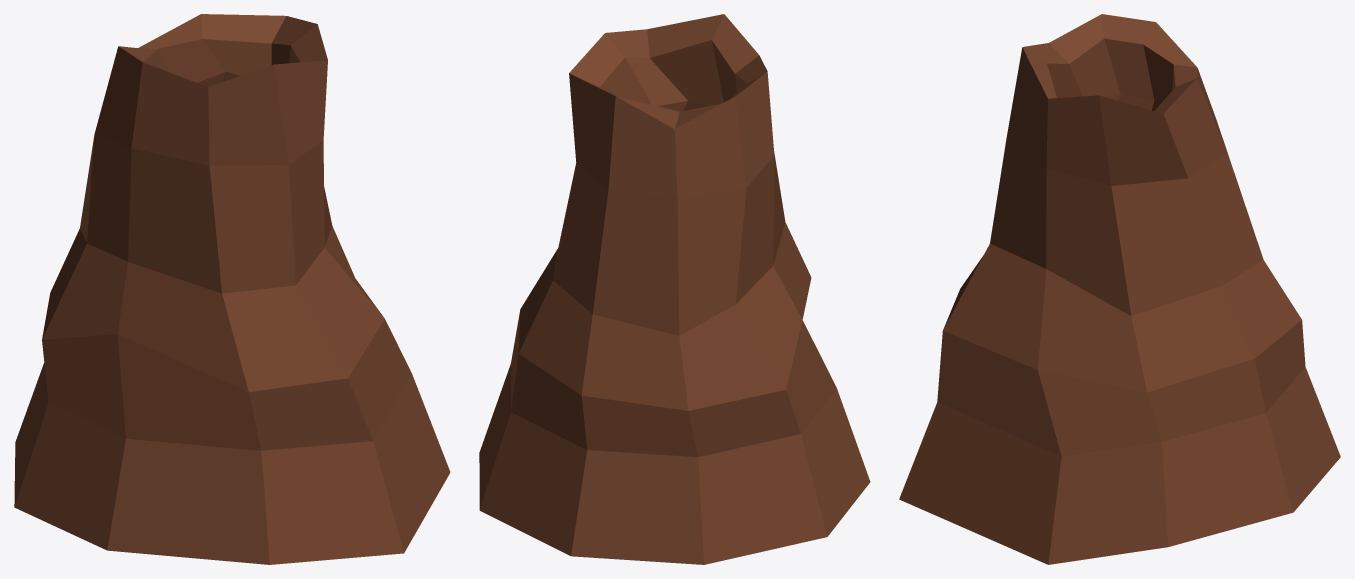
File: Stump.fbx
3 renders of one model, left to right at view 1: azimuth 30°, elevation 25°; view 2: azimuth 150°, elevation 25°; view 3: azimuth 270°, elevation 25°, orthographic. The views are drawn at different scales.
Visible parts, largest first — view 1: Stump; view 2: Stump; view 3: Stump.
Part boxes in pixels (box(x1,y1,x2,y2)): Stump: box(14, 14, 450, 564); Stump: box(479, 14, 870, 564); Stump: box(899, 14, 1340, 564).
Size of the model in its own units: 296 by 350 by 325.
